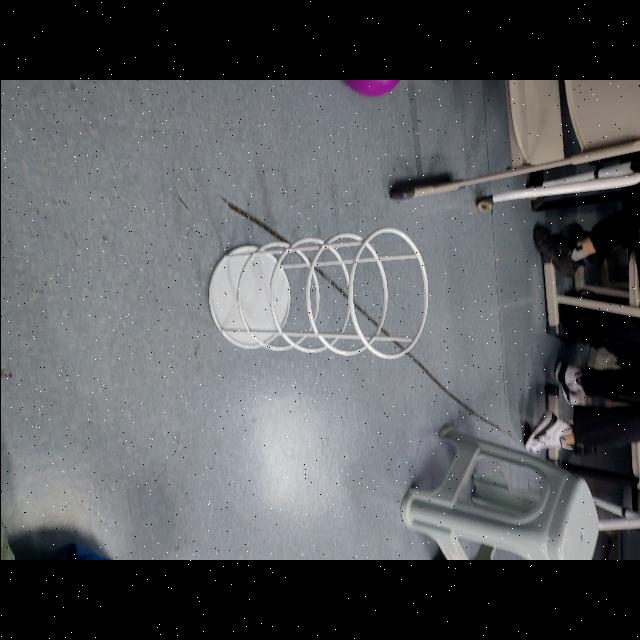S: (203, 225, 431, 362)
